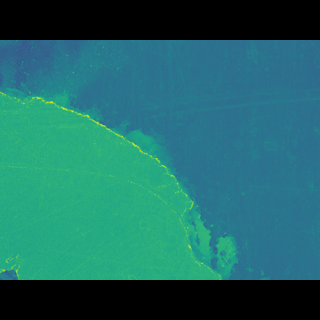Loch: (0, 100, 245, 250)
